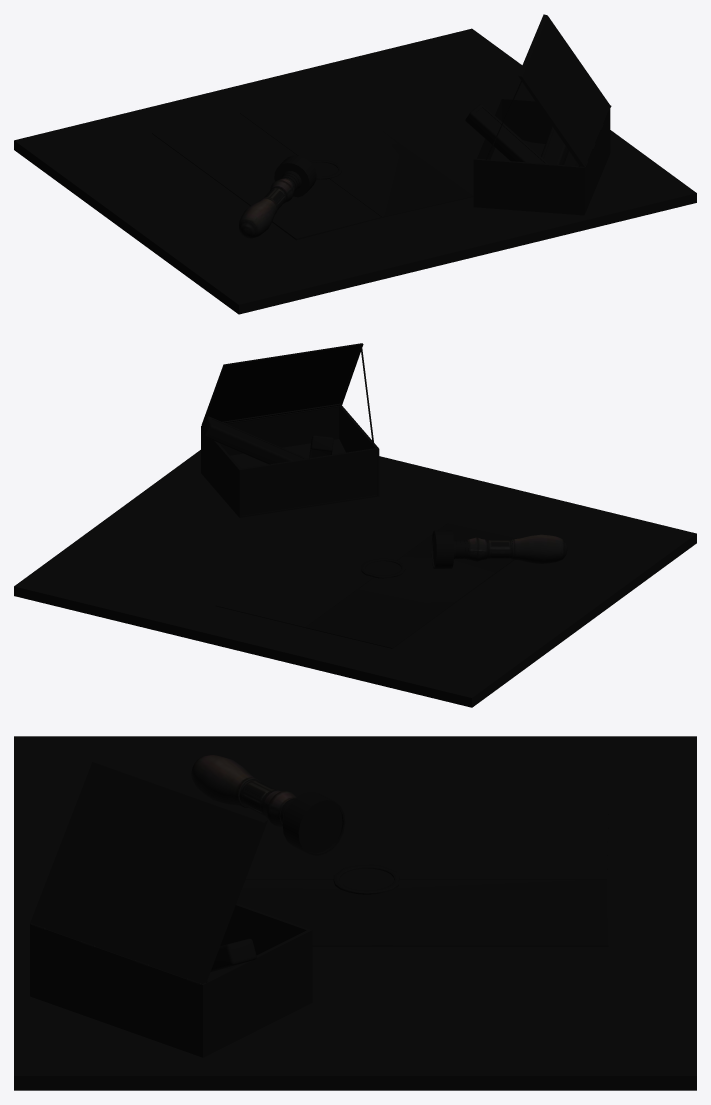
File: letter.glb
The picture shows the model from 3 angles, top to bottom: view 1: azimuth 30°, elevation 25°; view 2: azimuth 150°, elevation 25°; view 3: azimuth 270°, elevation 25°; orthographic projection. The views are drawn at different scales.
Parts seen in each view (by area): view 1: defaultMaterial.160, defaultMaterial.026, defaultMaterial.135, defaultMaterial.002, defaultMaterial.182, defaultMaterial.163; view 2: defaultMaterial.160, defaultMaterial.026, defaultMaterial.135, defaultMaterial.002, defaultMaterial.163; view 3: defaultMaterial.160, defaultMaterial.135, defaultMaterial.026, defaultMaterial.002, defaultMaterial.163.
Part boxes in pixels (x1,y1,x2,y2): defaultMaterial.160: (14, 28, 696, 314); defaultMaterial.026: (152, 90, 473, 240); defaultMaterial.135: (473, 14, 611, 215); defaultMaterial.002: (239, 155, 316, 238); defaultMaterial.182: (465, 104, 548, 163); defaultMaterial.163: (541, 126, 568, 164); defaultMaterial.160: (14, 450, 696, 707); defaultMaterial.026: (215, 500, 517, 648); defaultMaterial.135: (201, 343, 379, 517); defaultMaterial.002: (431, 530, 567, 568); defaultMaterial.163: (201, 416, 305, 464); defaultMaterial.160: (14, 736, 696, 1090); defaultMaterial.135: (30, 759, 312, 1057); defaultMaterial.026: (236, 813, 608, 946); defaultMaterial.002: (191, 755, 345, 855); defaultMaterial.163: (210, 938, 256, 972).
Size of the model in its own units: 2 by 0.6016 by 1.7.
1 material, 1 textured.
